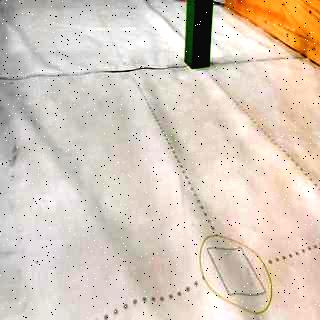greenbox: (186, 0, 216, 69)
